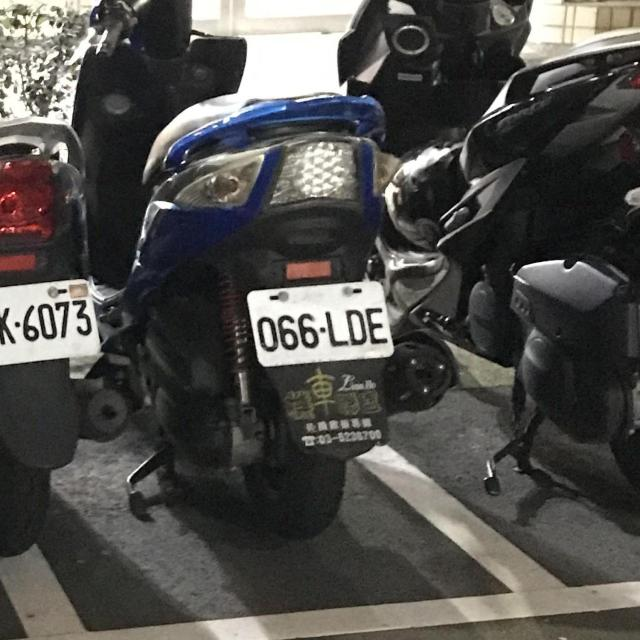W: (242, 268, 402, 376), (0, 270, 107, 376)
